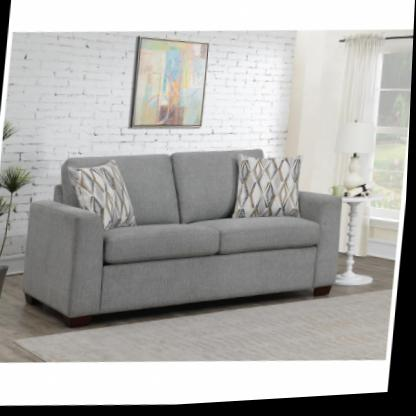Sofa: (18, 135, 349, 346)
